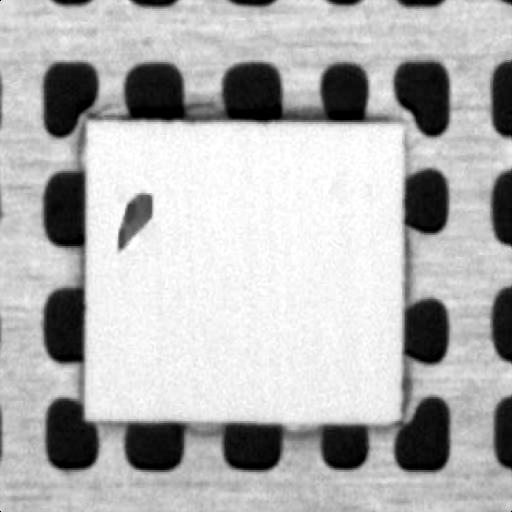DIE_INK: (111, 186, 154, 251)
